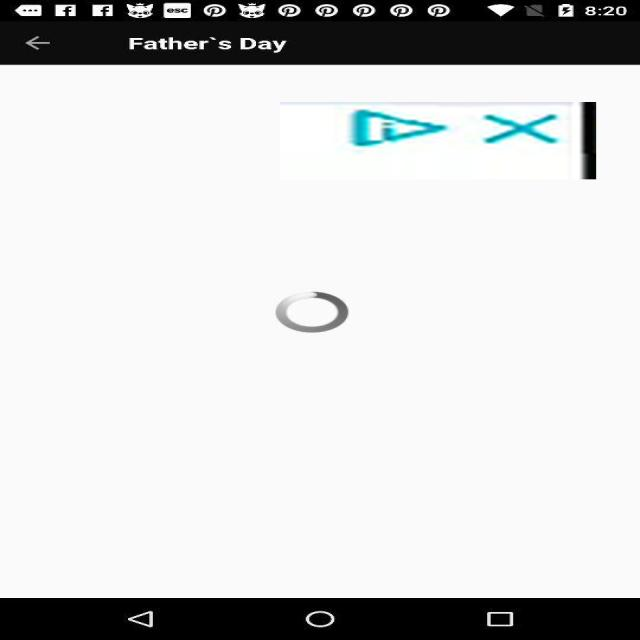sneaking: (280, 102, 596, 179)
